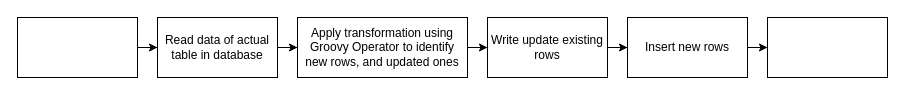
Image size: 905x95. Some labels were removed from this diagram. Each missing label, with the box of its shape:
Read File with File Operator: (16, 16, 138, 78)
Send mail to notify: (766, 16, 888, 78)
